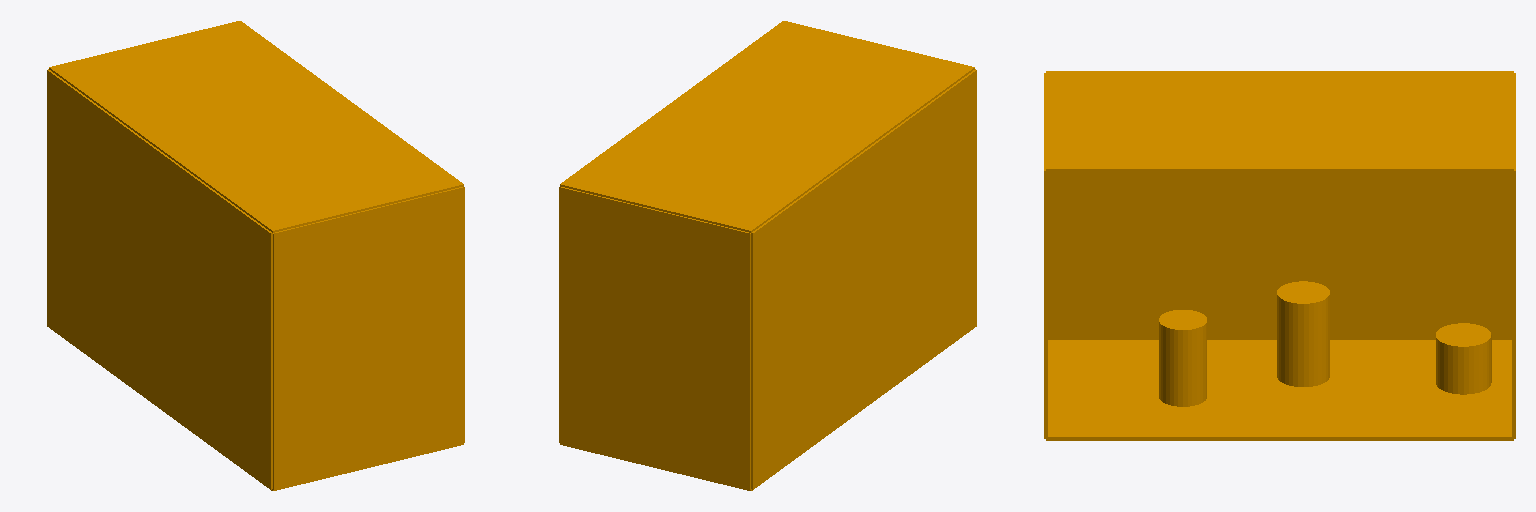
robot.urdf — syn_can_cabinet_293:
<?xml version="1.0" ?>
<robot name="syn_can_cabinet_293">
    <link concave="yes" name="base_link">
        <inertial>
            <origin rpy="0 0 0" xyz="0 0 0"/>
            <mass value="0.0"/>
            <inertia ixx="1e-08" ixy="0" ixz="0" iyy="1e-08" iyz="0" izz="1e-08"/>
        </inertial>
        <visual>
            <origin xyz="0 0 0" rpy="0 0 0" />
            <geometry>
                <mesh filename="syn_can_cabinet_293.obj" scale="1.000000 1.000000 1.000000"/>
            </geometry>         
        </visual>

        <collision concave="yes">
            <origin xyz="0 0 0" rpy="0 0 0"/>
            <geometry>
                <mesh filename="syn_can_cabinet_293.obj" scale="1.000000 1.000000 1.000000"/>
            </geometry>
        </collision>
    </link>
</robot>
    

--- Render facts (derived) ---
Views: 3 orthographic renders of the robot side by side, from view 1: azimuth 30°, elevation 25°; view 2: azimuth 150°, elevation 25°; view 3: azimuth 270°, elevation 25°.
Robot: syn_can_cabinet_293 — 1 links, 0 joints (none); root link base_link; default pose: all joints at 0.
Visible links, largest first — view 1: base_link; view 2: base_link; view 3: base_link.
Link boxes in pixels (<box>): base_link: <box>47,21,464,490</box>; base_link: <box>559,21,976,490</box>; base_link: <box>1044,71,1515,440</box>.
Bounding box of the posed robot: 0.2221 × 0.4484 × 0.2858 m (x, y, z).
Meshes: 1 distinct files referenced, 1 mesh visuals loaded (1 OBJ).
